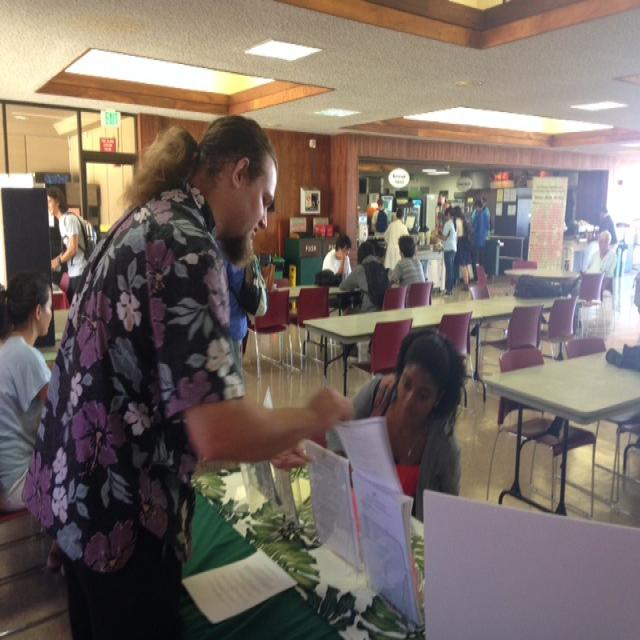body: (17, 105, 361, 639), (300, 325, 470, 527), (0, 267, 56, 516), (336, 238, 391, 366), (219, 247, 268, 380), (46, 186, 98, 310), (604, 271, 640, 373), (321, 232, 354, 316), (381, 205, 411, 284), (386, 233, 427, 288), (436, 204, 458, 296), (579, 227, 619, 277), (452, 205, 474, 292), (469, 198, 487, 282), (481, 195, 496, 277), (599, 205, 619, 252), (371, 196, 391, 241), (435, 201, 452, 235)
